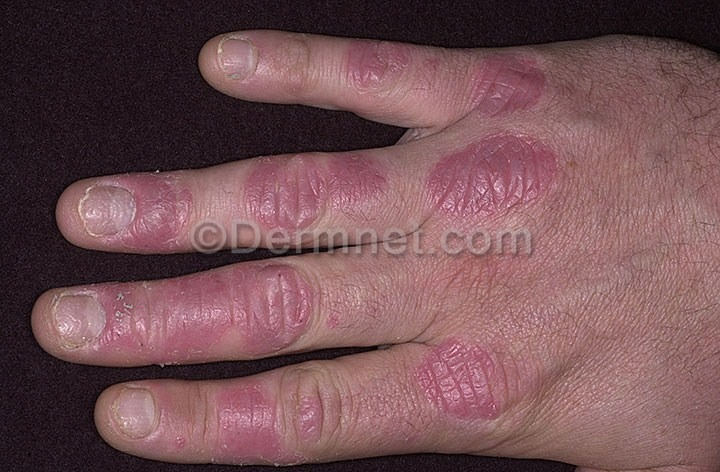Psoriasis: (43, 279, 315, 359), (402, 326, 572, 429), (432, 130, 565, 232), (198, 372, 336, 462), (249, 151, 393, 232), (71, 173, 194, 246), (461, 49, 559, 119), (342, 38, 423, 90)
